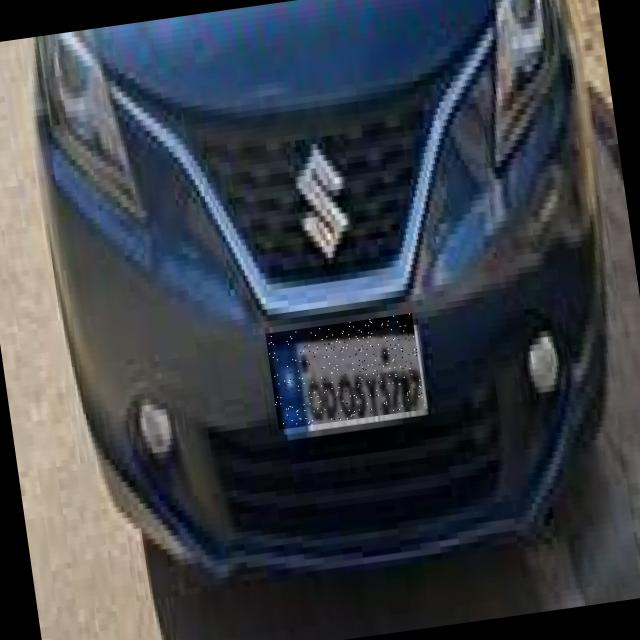Plate: (267, 314, 427, 431)
